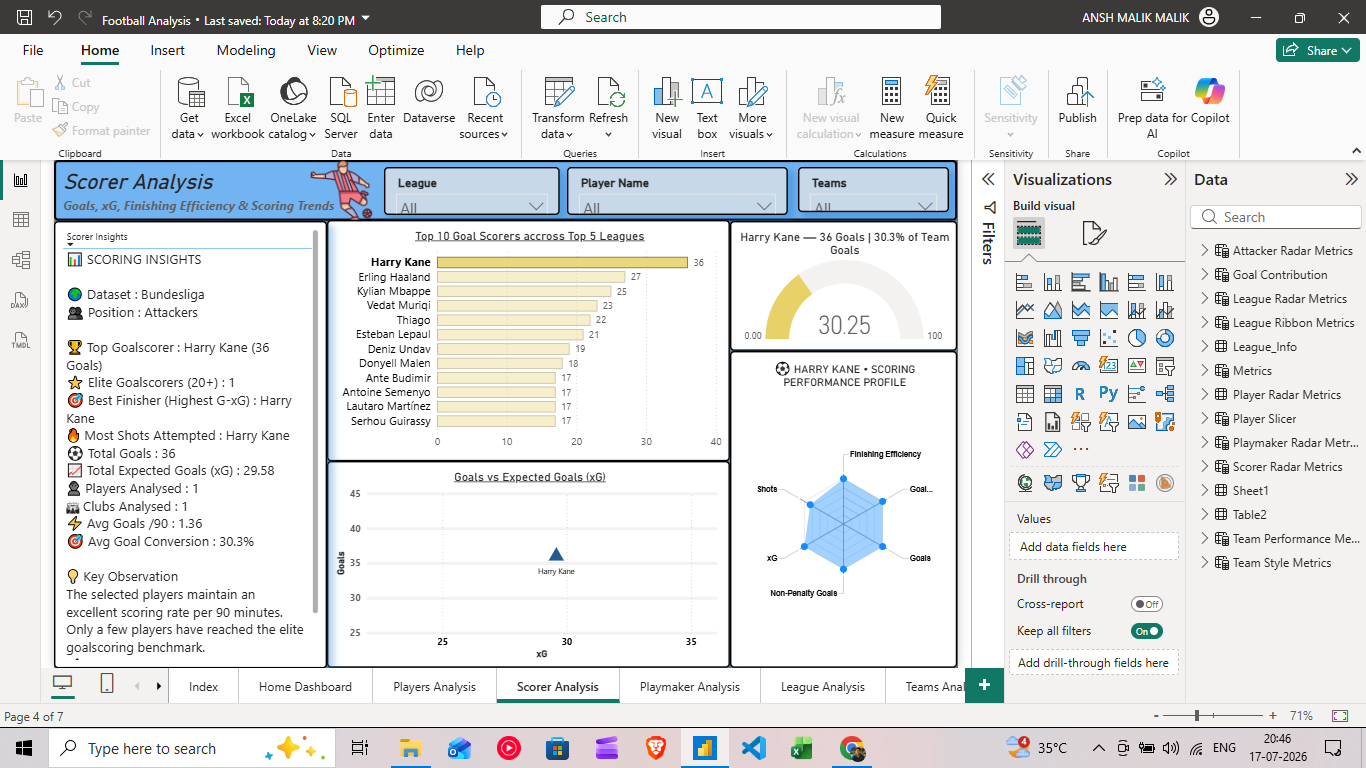

The page's visual inventory and layout, read from the dashboard file:
{"tool":"powerbi","page":{"name":"Scorer Analysis","canvas":[1280,720],"ordinal":3},"visuals":[{"type":"textbox","title":"Scorer Analysis ","box":[0,0,1279.8,86.5],"z":0},{"type":"image","box":[318.9,0,177.2,86.5],"z":1000},{"type":"slicer","title":"Leagues","fields":{"Values":["Table2.League"]},"box":[467.7,9.9,249.4,68],"z":2000},{"type":"slicer","fields":{"Values":["Table2.player_name"]},"box":[727.1,9.9,313.2,68],"z":3000},{"type":"clusteredBarChart","title":"Top 10 Goal Scorers accross Top 5 Leagues","fields":{"Category":["Table2.player_name"],"Y":["Sum(Table2.goals)"]},"box":[386.9,86.5,571.2,341.6],"z":4000},{"type":"scatterChart","title":"Goals vs Expected Goals (xG)","fields":{"Category":["Table2.player_name"],"Size":["Sum(Table2.time)"],"X":["Sum(Table2.xG)"],"Y":["Sum(Table2.goals)"]},"box":[386.9,426.6,571.2,293.4],"z":5000},{"type":"tableEx","fields":{"Values":["Table2.Scorer Insights"]},"box":[0,86.5,386.9,633.5],"z":6000},{"type":"slicer","fields":{"Values":["Table2.Clean Team"]},"box":[1054.5,9.9,214,63.8],"z":7000},{"type":"gauge","fields":{"MaxValue":["Goal Contribution.Gauge Maximum"],"Y":["Goal Contribution.Player Goal Share %"]},"box":[958.1,86.5,321.7,184.3],"z":8000},{"type":"RadarChart1446119667547","fields":{"Category":["Scorer Radar Metrics.Metric"],"Y":["Table2.Scorer Radar Score"]},"box":[958.1,270.7,321.7,449.3],"z":9000}]}

Visuals, with their boxes on the page's 1280x720 design canvas (x1, y1, x2, y2). These are canvas units, not pixel positions in the 1366x768 screenshot, which may show the page scaled, cropped or inside an application window:
"Scorer Analysis " textbox: pyautogui.locateOnScreen(0, 0, 1280, 86)
image: pyautogui.locateOnScreen(319, 0, 496, 86)
"Leagues" slicer: pyautogui.locateOnScreen(468, 10, 717, 78)
slicer - Table2.player_name: pyautogui.locateOnScreen(727, 10, 1040, 78)
"Top 10 Goal Scorers accross Top 5 Leagues" clusteredBarChart: pyautogui.locateOnScreen(387, 86, 958, 428)
"Goals vs Expected Goals (xG)" scatterChart: pyautogui.locateOnScreen(387, 427, 958, 720)
tableEx - Table2.Scorer Insights: pyautogui.locateOnScreen(0, 86, 387, 720)
slicer - Table2.Clean Team: pyautogui.locateOnScreen(1054, 10, 1268, 74)
gauge - Goal Contribution.Gauge Maximum x Goal Contribution.Player Goal Share %: pyautogui.locateOnScreen(958, 86, 1280, 271)
RadarChart1446119667547 - Scorer Radar Metrics.Metric x Table2.Scorer Radar Score: pyautogui.locateOnScreen(958, 271, 1280, 720)
